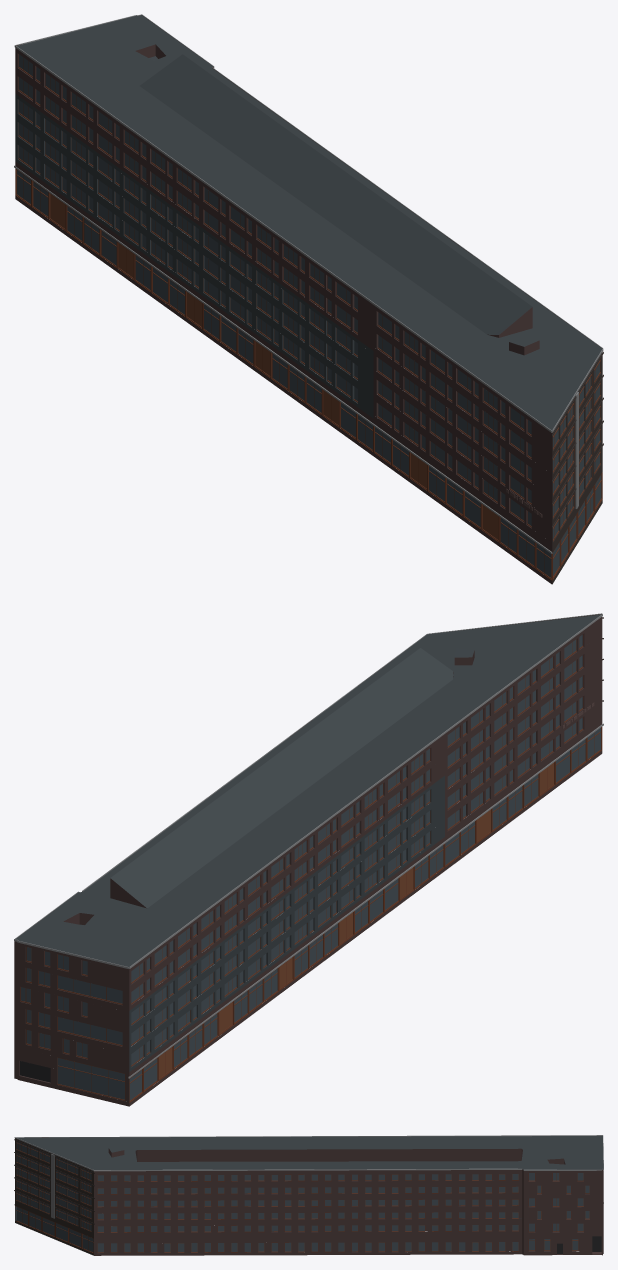
Rendered from panamalaan-10.glb.
3 renders of one model, top to bottom at view 1: azimuth 30°, elevation 25°; view 2: azimuth 150°, elevation 25°; view 3: azimuth 270°, elevation 25°, orthographic. The views are drawn at different scales.
Visible parts, largest first — view 1: panamalaan-10; view 2: panamalaan-10; view 3: panamalaan-10.
Boxes of the visible parts, bbox=[...] form: panamalaan-10: bbox=[14, 14, 603, 584]; panamalaan-10: bbox=[14, 613, 603, 1106]; panamalaan-10: bbox=[14, 1135, 603, 1255].
Bounding box in the file's own units: 17.22 × 21.89 × 120.
